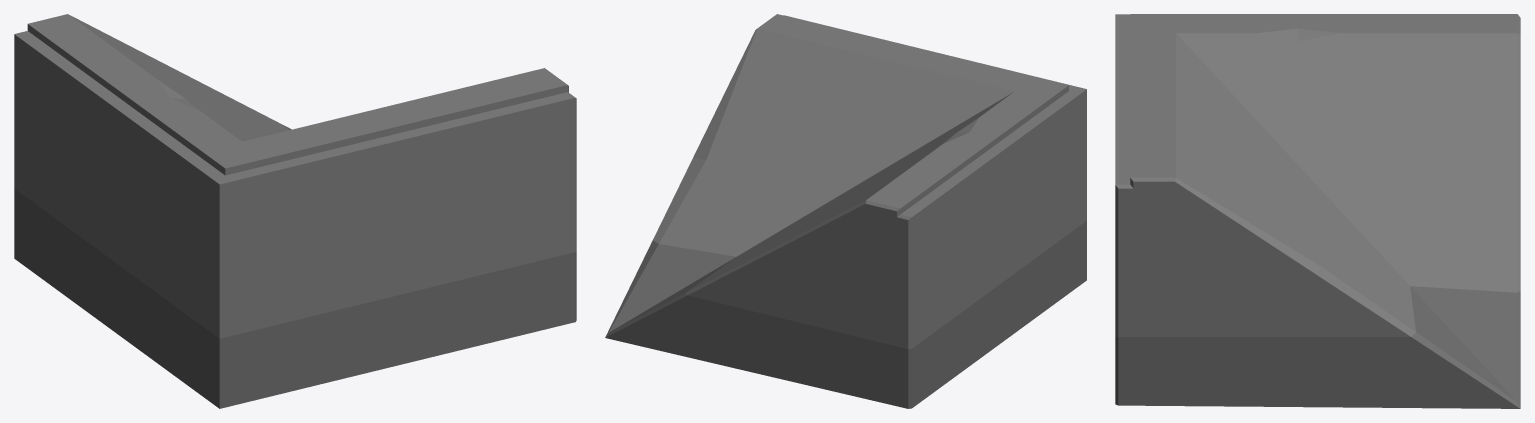
File: SM_Envr_Canal_Corner_02.fbx
3 views of the same model, side by side, from view 1: azimuth 30°, elevation 25°; view 2: azimuth 150°, elevation 25°; view 3: azimuth 270°, elevation 25° (orthographic). The views are drawn at different scales.
Parts seen in each view (by area): view 1: SM_Envr_Canal_Corner_02; view 2: SM_Envr_Canal_Corner_02; view 3: SM_Envr_Canal_Corner_02.
Part boxes in pixels (x1,y1,x2,y2): SM_Envr_Canal_Corner_02: [14, 14, 576, 408]; SM_Envr_Canal_Corner_02: [605, 14, 1086, 408]; SM_Envr_Canal_Corner_02: [1115, 14, 1520, 408].
Size of the model in its own units: 535 by 335 by 535.
